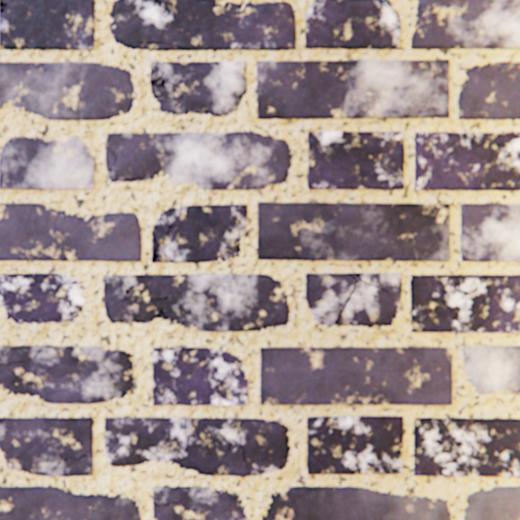brick: (257, 202, 449, 261), (257, 60, 448, 119), (260, 346, 450, 404), (105, 416, 290, 475), (106, 132, 291, 190), (104, 274, 289, 331), (111, 0, 295, 51), (0, 203, 141, 261), (0, 345, 135, 403), (0, 63, 135, 120), (261, 485, 450, 519), (409, 275, 519, 332), (413, 417, 519, 475), (414, 133, 519, 191), (307, 132, 403, 190), (306, 415, 402, 473), (410, 0, 519, 50), (153, 347, 248, 404), (0, 417, 93, 475), (152, 205, 246, 262), (150, 62, 246, 117), (0, 137, 95, 189), (0, 0, 95, 51), (0, 485, 141, 519), (305, 0, 400, 50), (0, 273, 84, 323), (457, 63, 519, 120), (336, 273, 400, 327), (459, 204, 519, 261), (153, 485, 248, 519), (462, 345, 519, 394), (305, 273, 355, 326), (463, 485, 519, 519), (107, 170, 117, 182), (152, 238, 155, 257), (350, 273, 357, 278)
crack: (334, 273, 387, 324), (150, 71, 182, 97), (152, 230, 168, 262), (234, 419, 245, 460), (107, 167, 130, 181), (121, 284, 133, 300), (141, 295, 167, 302), (61, 454, 88, 460), (156, 304, 164, 317), (0, 0, 8, 12), (172, 45, 186, 51), (226, 440, 233, 451), (111, 150, 116, 165), (153, 501, 176, 504), (6, 46, 23, 50), (153, 0, 161, 8), (0, 361, 21, 364), (149, 43, 160, 44)
